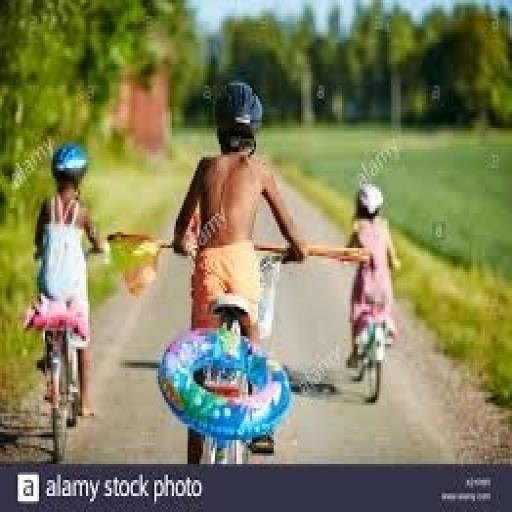cycling: (170, 77, 311, 464), (26, 139, 112, 424), (338, 179, 405, 381)
